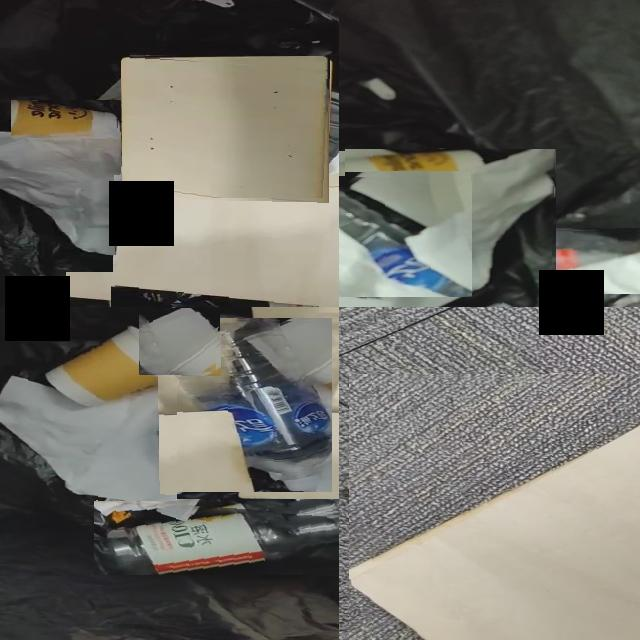bottle: (159, 320, 332, 492), (94, 509, 339, 575), (339, 191, 472, 297), (460, 230, 640, 294)
carton: (349, 425, 640, 640), (115, 175, 339, 307), (122, 60, 329, 198)
dixie_cup: (46, 328, 186, 405), (11, 100, 119, 137)
paper: (339, 149, 556, 307), (0, 377, 177, 501), (0, 132, 120, 255), (140, 308, 219, 374), (274, 499, 339, 514)
